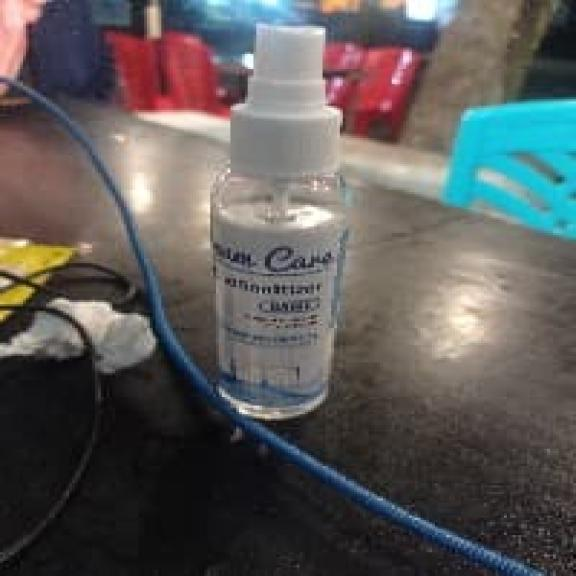Plastik: (213, 25, 347, 420)
